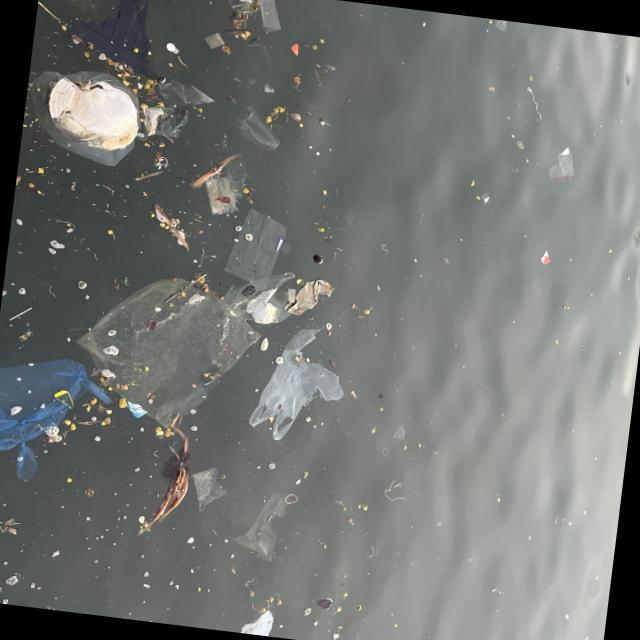foam: (44, 76, 140, 140)
plastic bag: (79, 273, 257, 429), (1, 344, 104, 483), (252, 323, 343, 442)
